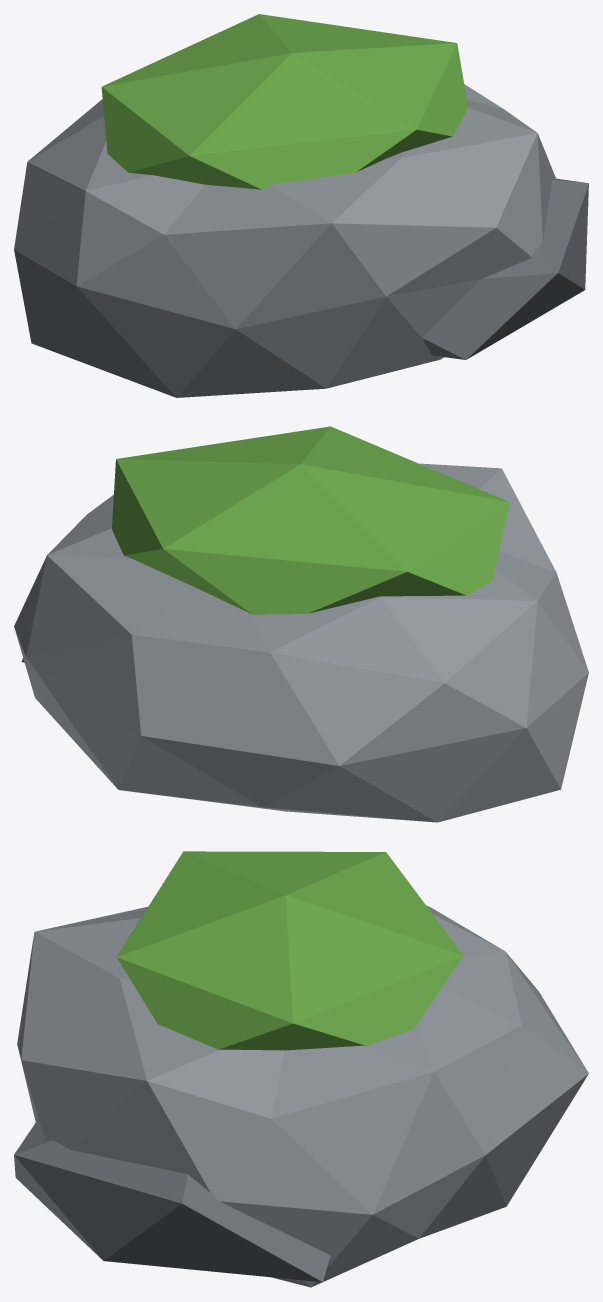
The model's file is wood_rock_a.fbx.
3 views of the same model, one above another, from view 1: azimuth 30°, elevation 25°; view 2: azimuth 150°, elevation 25°; view 3: azimuth 270°, elevation 25° (orthographic). The views are drawn at different scales.
Visible parts, largest first — view 1: wood_rock_a__rock, wood_rock_a__moss, wood_rock_a__rock_dark; view 2: wood_rock_a__rock, wood_rock_a__moss; view 3: wood_rock_a__rock, wood_rock_a__moss, wood_rock_a__rock_dark.
Boxes of the visible parts, bbox=[...] form: wood_rock_a__rock: bbox=[14, 84, 555, 397]; wood_rock_a__moss: bbox=[101, 14, 468, 189]; wood_rock_a__rock_dark: bbox=[422, 178, 588, 359]; wood_rock_a__rock: bbox=[14, 463, 588, 822]; wood_rock_a__moss: bbox=[112, 426, 509, 614]; wood_rock_a__rock: bbox=[17, 905, 588, 1287]; wood_rock_a__moss: bbox=[117, 851, 463, 1050]; wood_rock_a__rock_dark: bbox=[14, 1118, 330, 1282].
Size of the model in its own units: 326 by 160 by 293.
